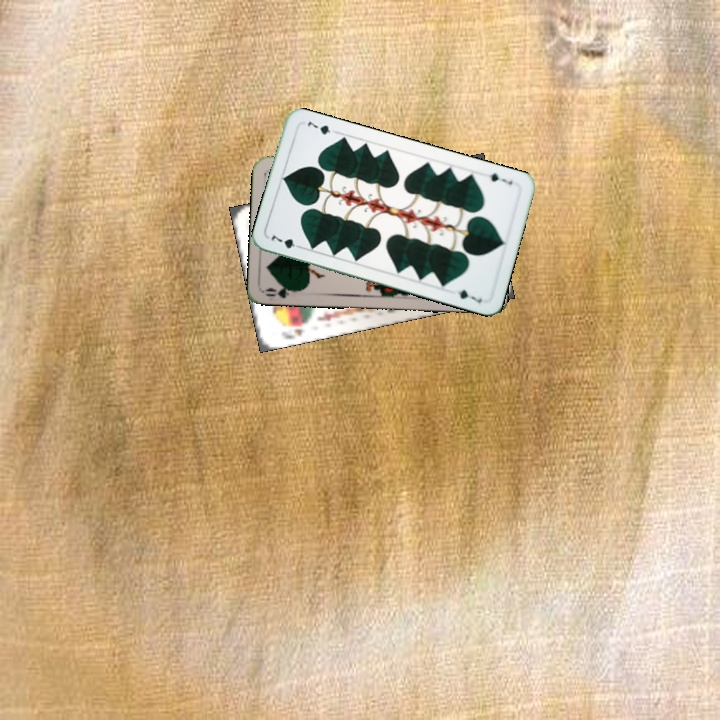G7: (267, 230, 306, 252), (485, 169, 515, 187)
GO: (262, 280, 303, 300)
SK: (276, 324, 305, 341)
